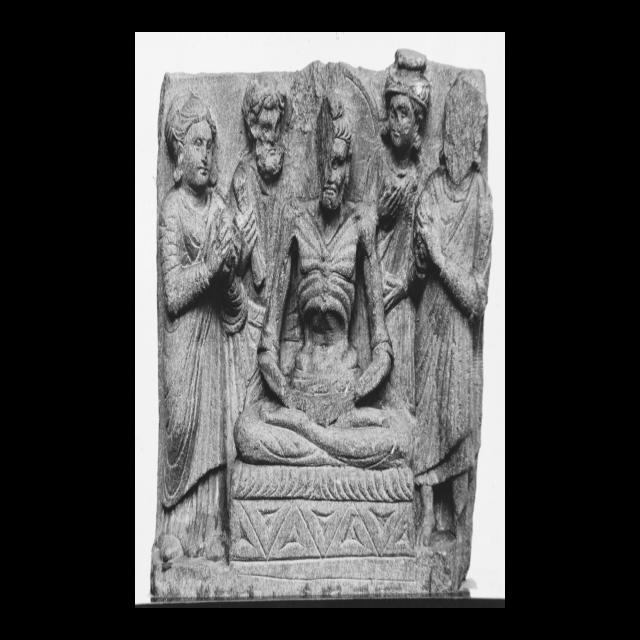buddha-sitting: (235, 98, 413, 469)
